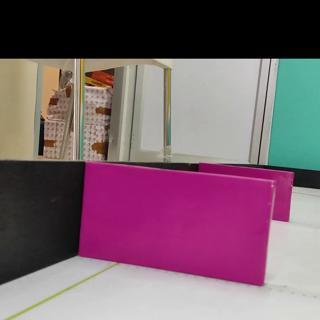xparking: (80, 162, 277, 287), (274, 172, 293, 222)
